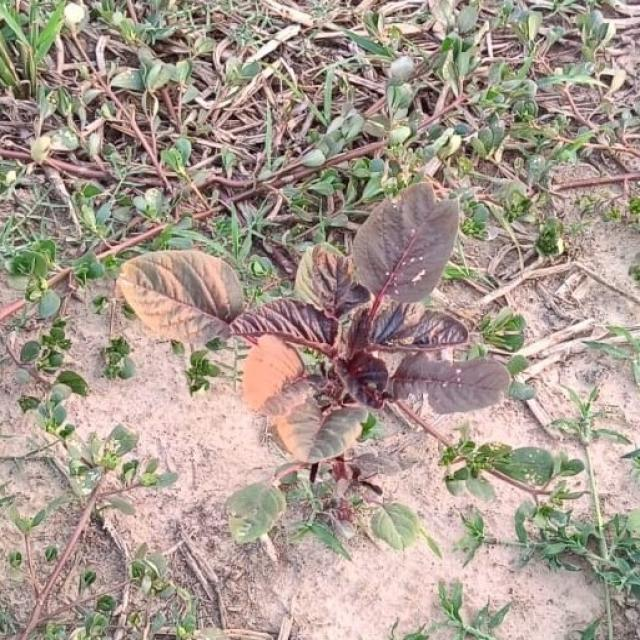plant: (120, 185, 509, 463)
